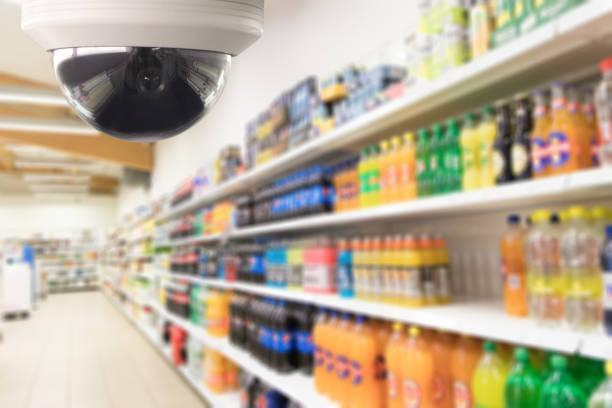camera: (18, 1, 280, 148)
